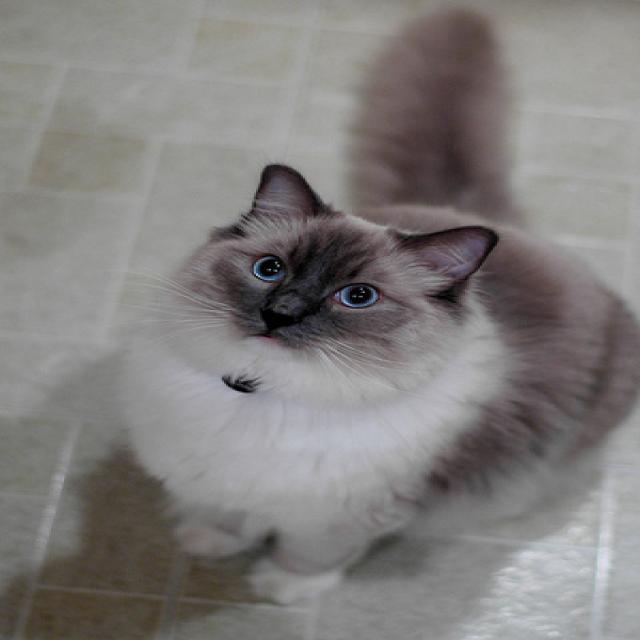Ragdoll: (111, 4, 640, 604)
